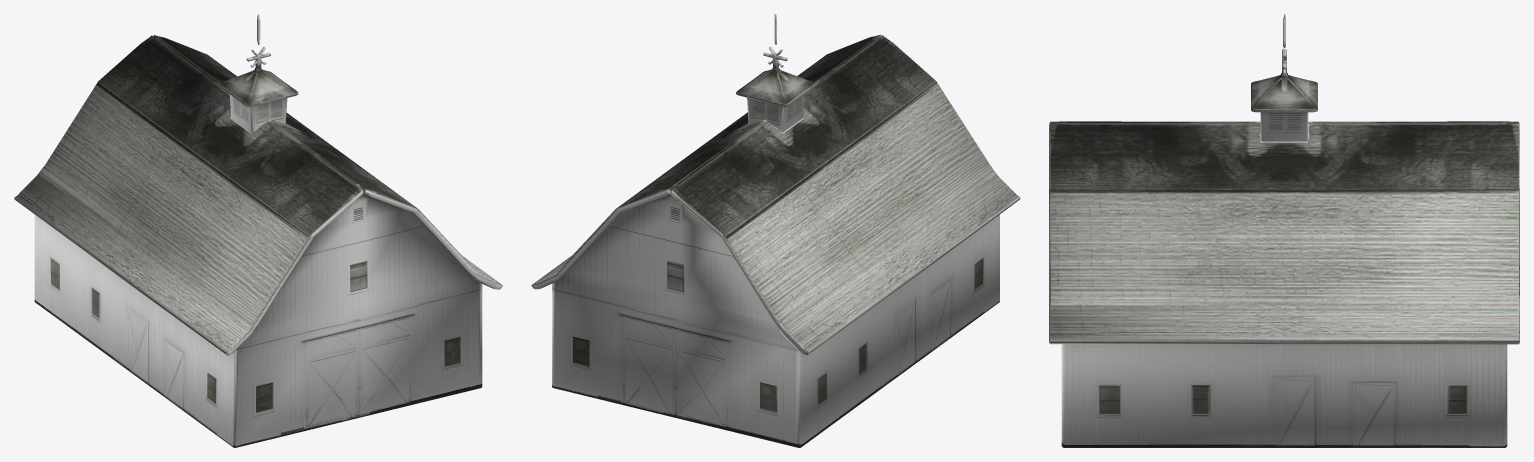
Rendered from white_barn_0621060328_texture.glb.
3 views of the same model, side by side, from view 1: azimuth 30°, elevation 25°; view 2: azimuth 150°, elevation 25°; view 3: azimuth 270°, elevation 25° (orthographic). The views are drawn at different scales.
Visible parts, largest first — view 1: Mesh_0.001; view 2: Mesh_0.001; view 3: Mesh_0.001.
Part boxes in pixels (x1=…): Mesh_0.001: x1=14, y1=14, x2=502, y2=447; Mesh_0.001: x1=531, y1=14, x2=1020, y2=447; Mesh_0.001: x1=1049, y1=14, x2=1519, y2=447.
Size of the model in its own units: 8.81 by 10.06 by 11.69.
1 material, 1 textured.
